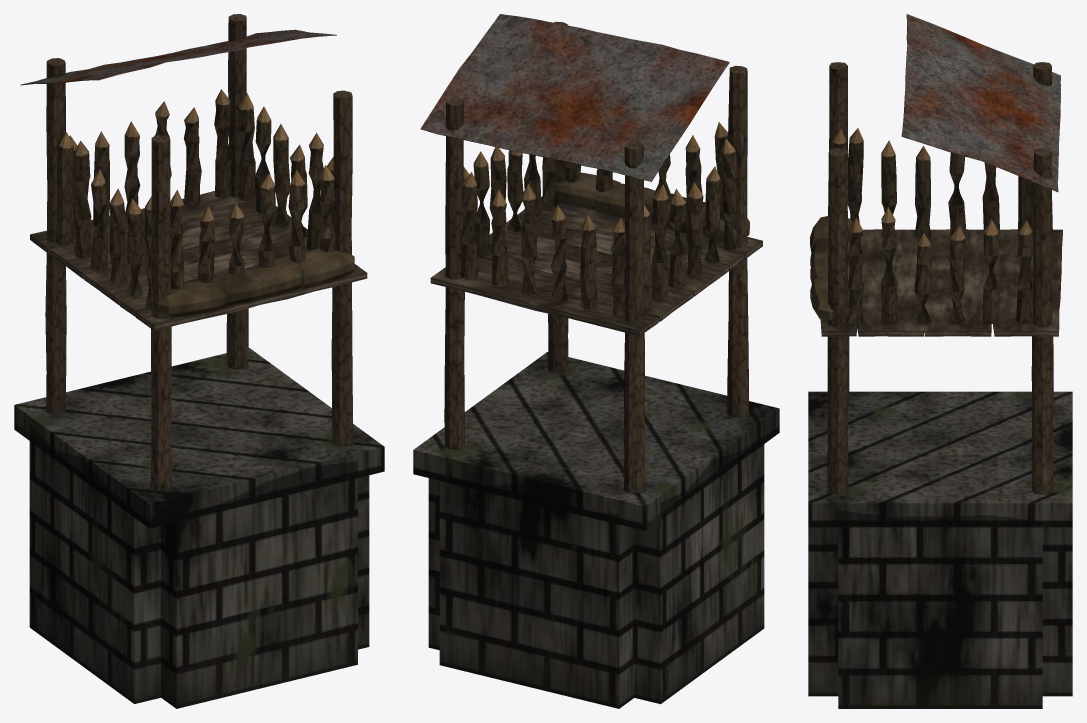
File: ring_tower.glb
3 views of the same model, side by side, from view 1: azimuth 30°, elevation 25°; view 2: azimuth 150°, elevation 25°; view 3: azimuth 270°, elevation 25° (orthographic). The views are drawn at different scales.
Parts seen in each view (by area): view 1: ring_tower; view 2: ring_tower; view 3: ring_tower.
Part boxes in pixels (x1=…): ring_tower: x1=14, y1=14, x2=384, y2=708; ring_tower: x1=413, y1=14, x2=779, y2=708; ring_tower: x1=808, y1=14, x2=1072, y2=708.
Bounding box in the file's own units: 2.2 × 5.37 × 2.2.
1 material, 1 textured.
